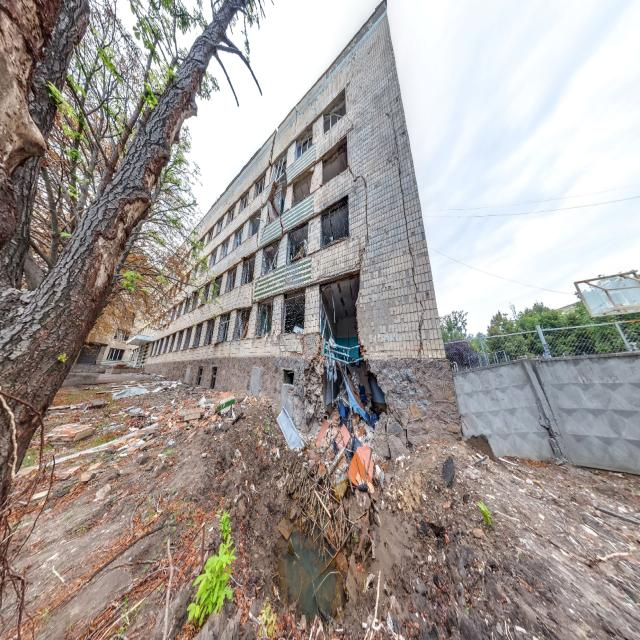broken_window: (320, 194, 349, 249), (321, 135, 348, 186), (282, 290, 305, 335), (286, 222, 308, 265), (254, 297, 273, 338)
building: (120, 1, 450, 427)
